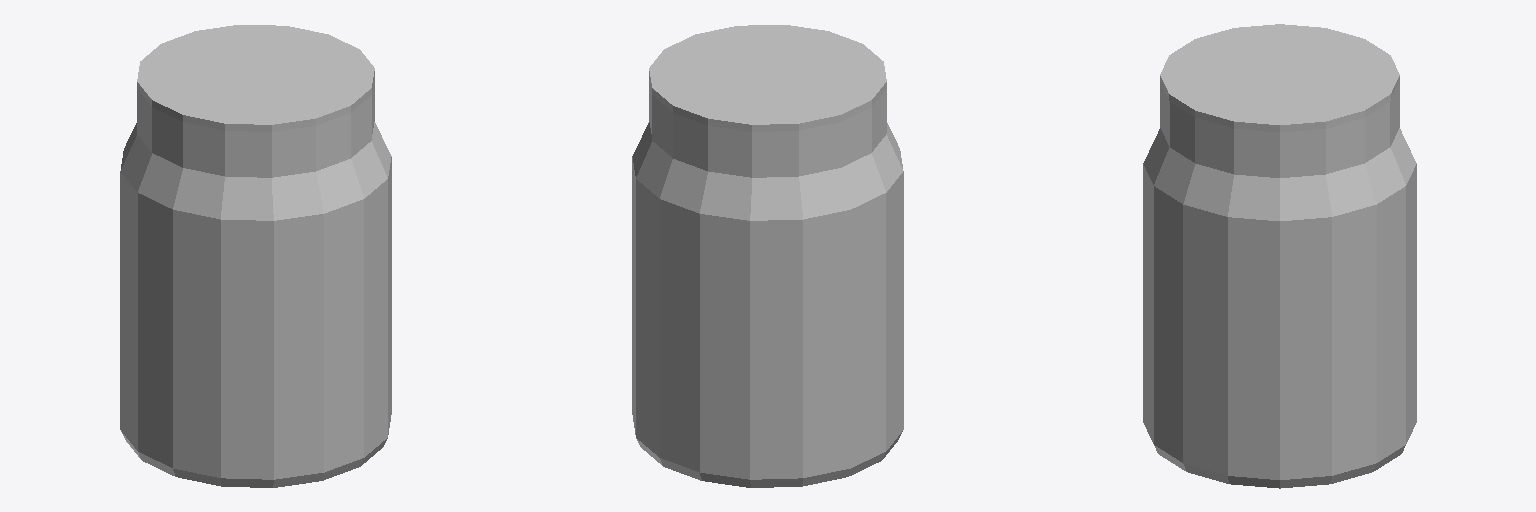
The model's file is Specimen Jar #1.obj.
The picture shows the model from 3 angles: view 1: azimuth 30°, elevation 25°; view 2: azimuth 150°, elevation 25°; view 3: azimuth 270°, elevation 25°; orthographic projection.
Visible parts, largest first — view 1: Jar_Low; view 2: Jar_Low; view 3: Jar_Low.
Part boxes in pixels (bbox=[...]): Jar_Low: bbox=[120, 25, 391, 487]; Jar_Low: bbox=[632, 25, 903, 487]; Jar_Low: bbox=[1143, 24, 1416, 488].
Size of the model in its own units: 0.2288 by 0.3346 by 0.2288.